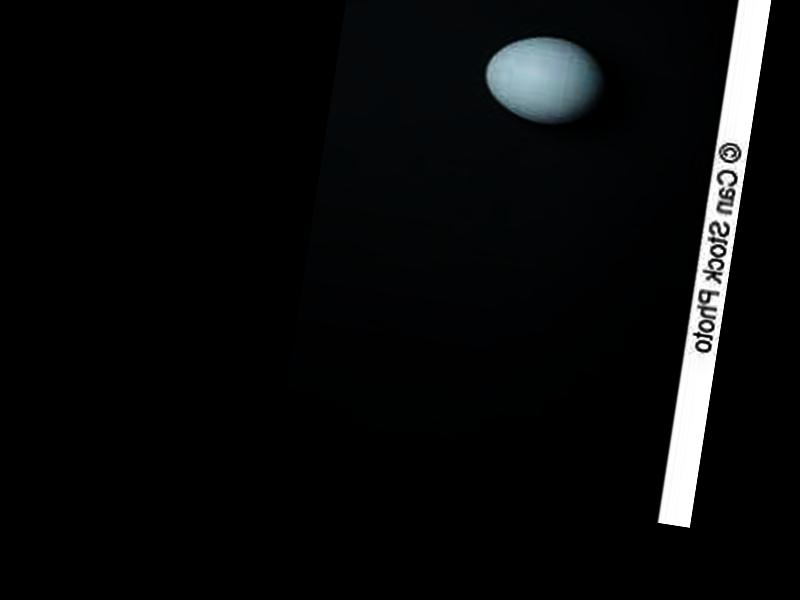Eggs: (478, 25, 611, 131)
